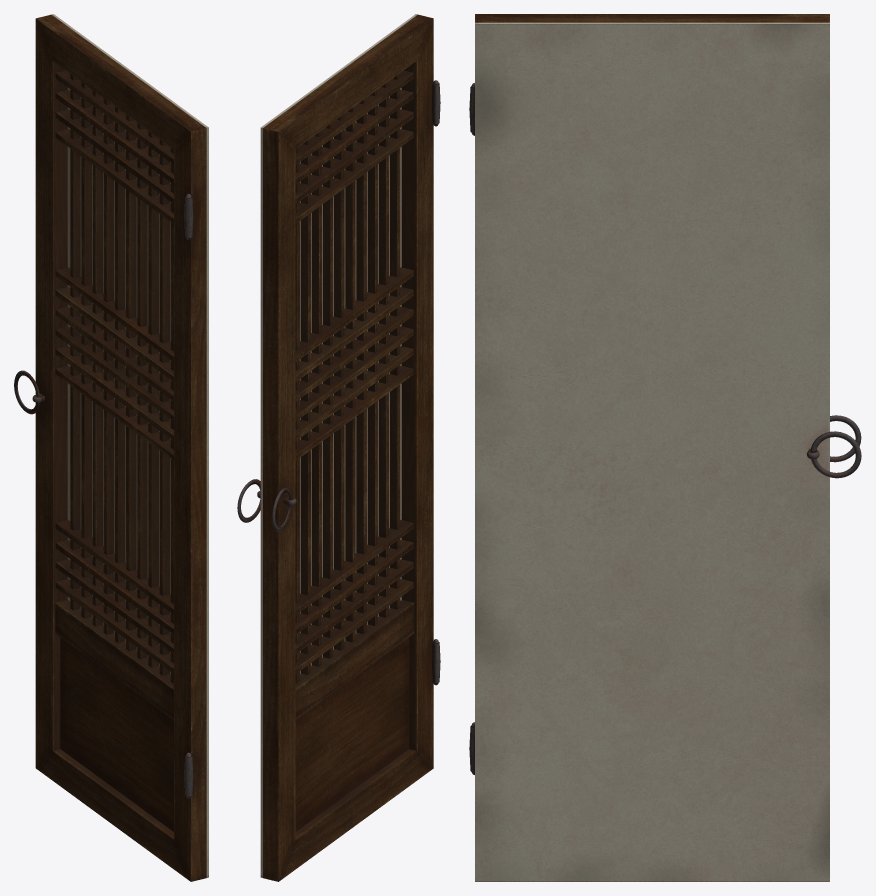
Rendered from SM_Door01d_02.fbx.
3 views of the same model, side by side, from view 1: azimuth 30°, elevation 25°; view 2: azimuth 150°, elevation 25°; view 3: azimuth 270°, elevation 25° (orthographic). The views are drawn at different scales.
Parts seen in each view (by area): view 1: SM_Door01d_02; view 2: SM_Door01d_02; view 3: SM_Door01d_02.
Part boxes in pixels (<box>): SM_Door01d_02: <box>14,14,208,881</box>; SM_Door01d_02: <box>237,14,440,881</box>; SM_Door01d_02: <box>469,14,861,881</box>.
Size of the model in its own units: 8.48 by 160 by 66.28.
Materials: 1 (1 with a texture image).
